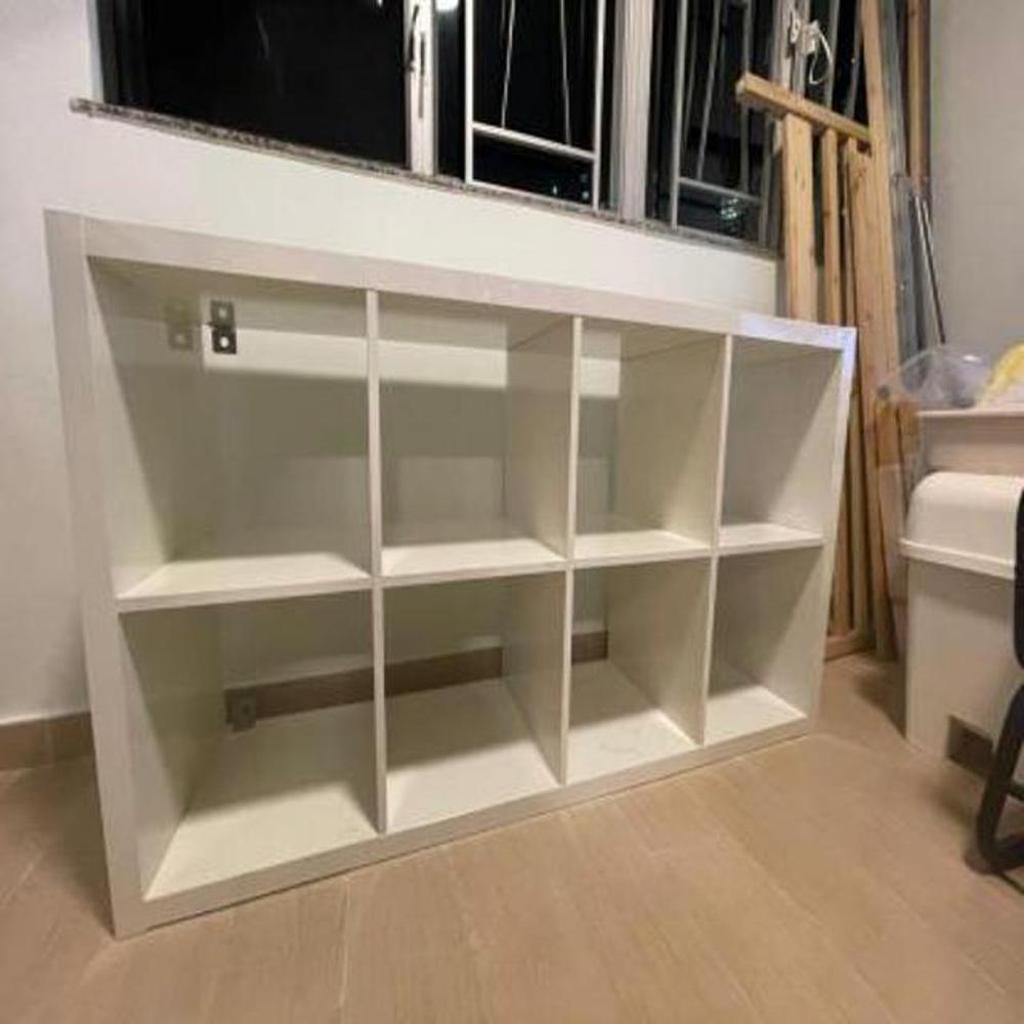lamp: (42, 206, 858, 943)
